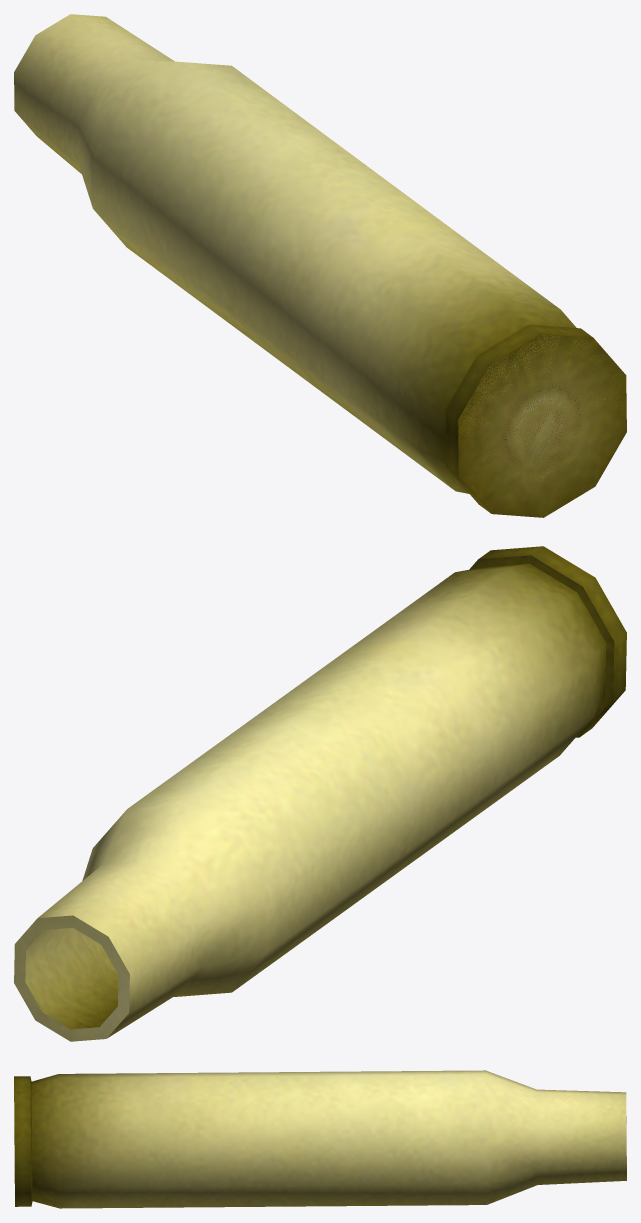
File: bullet.obj
The picture shows the model from 3 angles, top to bottom: view 1: azimuth 30°, elevation 25°; view 2: azimuth 150°, elevation 25°; view 3: azimuth 270°, elevation 25°; orthographic projection. The views are drawn at different scales.
Visible parts, largest first — view 1: bullet; view 2: bullet; view 3: bullet.
Part boxes in pixels (box(x1,y1,x2,y2)): bullet: box(14, 14, 626, 517); bullet: box(14, 546, 626, 1041); bullet: box(14, 1070, 626, 1208).
Size of the model in its own units: 1.61 by 1.71 by 7.45.
1 material, 1 textured.
